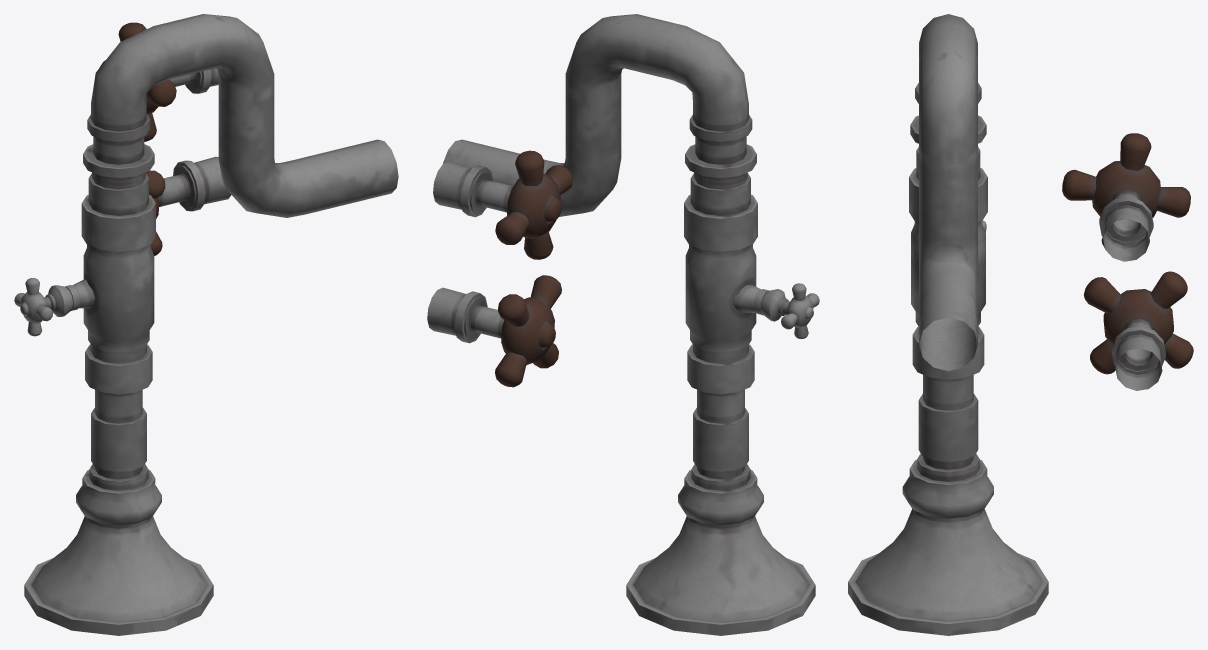
File: SM_Shower_Head.fbx
The picture shows the model from 3 angles, left to right: view 1: azimuth 30°, elevation 25°; view 2: azimuth 150°, elevation 25°; view 3: azimuth 270°, elevation 25°; orthographic projection. The views are drawn at different scales.
Parts seen in each view (by area): view 1: SM_Shower_Head; view 2: SM_Shower_Head; view 3: SM_Shower_Head.
Part boxes in pixels (<box>): SM_Shower_Head: <box>14,14,398,635</box>; SM_Shower_Head: <box>427,14,819,635</box>; SM_Shower_Head: <box>848,14,1193,635</box>.
Size of the model in its own units: 28.26 by 22.18 by 41.89.
1 material, 1 textured.
